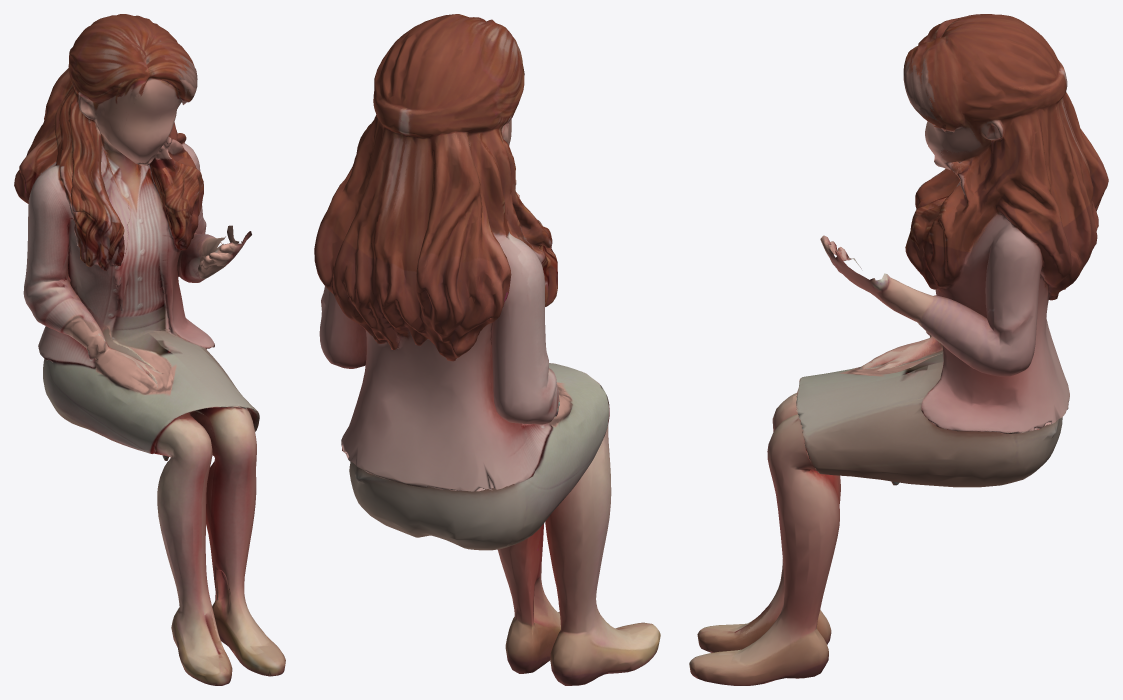
Rendered from user_d_sit_phone.glb.
3 renders of one model, left to right at view 1: azimuth 30°, elevation 25°; view 2: azimuth 150°, elevation 25°; view 3: azimuth 270°, elevation 25°, orthographic. The views are drawn at different scales.
Parts seen in each view (by area): view 1: geometry_0; view 2: geometry_0; view 3: geometry_0.
Part boxes in pixels (<box>): geometry_0: <box>14,14,285,685</box>; geometry_0: <box>314,14,660,685</box>; geometry_0: <box>689,14,1108,685</box>.
Size of the model in its own units: 0.3298 by 0.9998 by 0.5913.
1 material, 1 textured.
